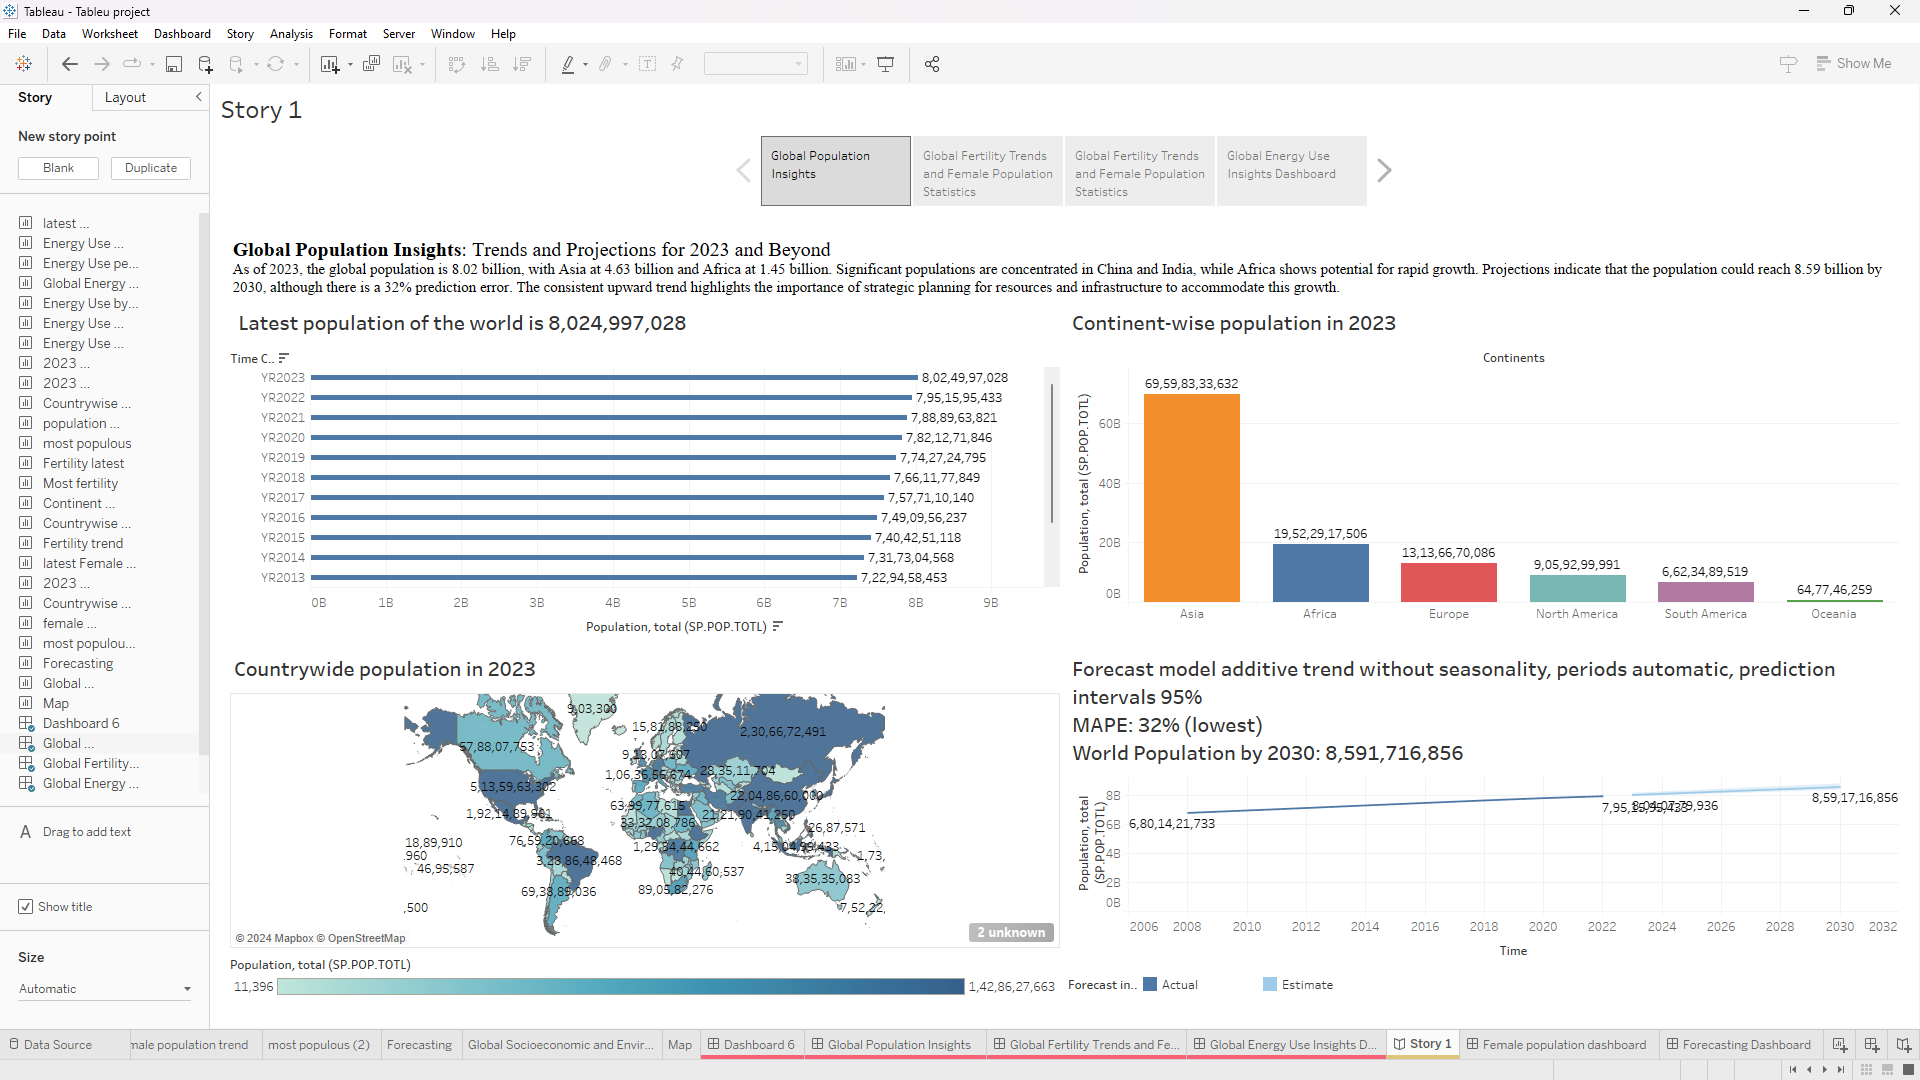

What the dashboard file says about the page in this screenshot:
{"tool":"tableau","page":{"name":"Global Population Insights","canvas":[1000,1000],"units":"permille","ordinal":5},"visuals":[{"type":"title","box":[4.7,8.5,990.6,69.9]},{"type":"worksheet","title":"latest population world","mark":"Bar","rows":["Time Code"],"cols":["Population, total (SP.POP.TOTL)"],"box":[4.7,78.4,495.2,443.7]},{"type":"worksheet","title":"2023 population continent wise","mark":"Automatic","rows":["Population, total (SP.POP.TOTL)"],"cols":["Continents"],"box":[499.9,78.4,495.4,443.8]},{"type":"worksheet","title":"Countrywise population 2023","mark":"Automatic","box":[4.7,522.1,495.2,392.1]},{"type":"worksheet","title":"Forecasting","mark":"Line","rows":["Population, total (SP.POP.TOTL)"],"cols":["Time"],"box":[499.9,522.2,495.4,415.2]},{"type":"legend","title":"Countrywise population 2023","param":"[federated.0u96f6y1uy6if2102a24o0p1i3m1].[sum:Population, total (SP.POP.TOTL):qk","box":[4.7,914.2,495.2,77.3]},{"type":"legend","title":"Forecasting","param":"[federated.0u96f6y1uy6if2102a24o0p1i3m1].[none:Forecast Indicator:nk]","box":[499.9,937.4,495.4,54.1]}]}

Visuals, with their boxes on the dashboard's canvas, which has no fixed pixel size, in thousandths of its width and height (x1, y1, x2, y2). These are canvas units, not pixel positions in the 1920x1080 screenshot, which may show the page scaled, cropped or inside an application window:
title: [left=5, top=8, right=995, bottom=78]
"latest population world" worksheet (Bar marks): [left=5, top=78, right=500, bottom=522]
"2023 population continent wise" worksheet: [left=500, top=78, right=995, bottom=522]
"Countrywise population 2023" worksheet: [left=5, top=522, right=500, bottom=914]
"Forecasting" worksheet (Line marks): [left=500, top=522, right=995, bottom=937]
"Countrywise population 2023" legend: [left=5, top=914, right=500, bottom=992]
"Forecasting" legend: [left=500, top=937, right=995, bottom=992]
